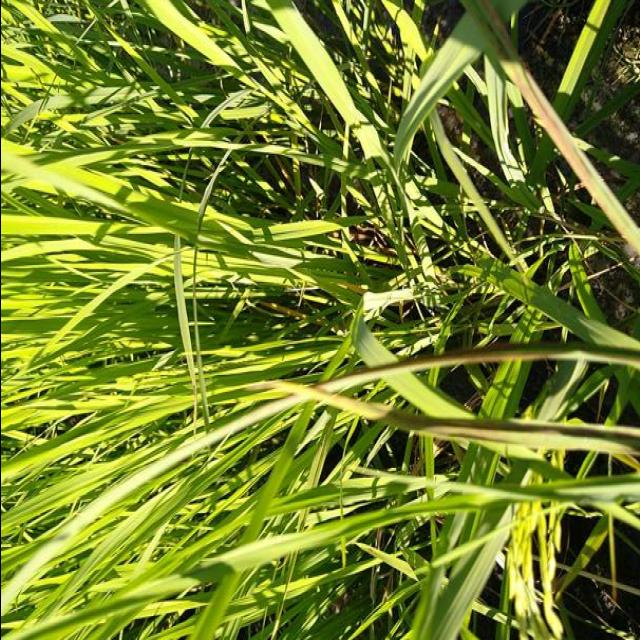Leaf Blight: (0, 393, 306, 623), (459, 0, 640, 260), (264, 379, 640, 455), (317, 347, 640, 393)
